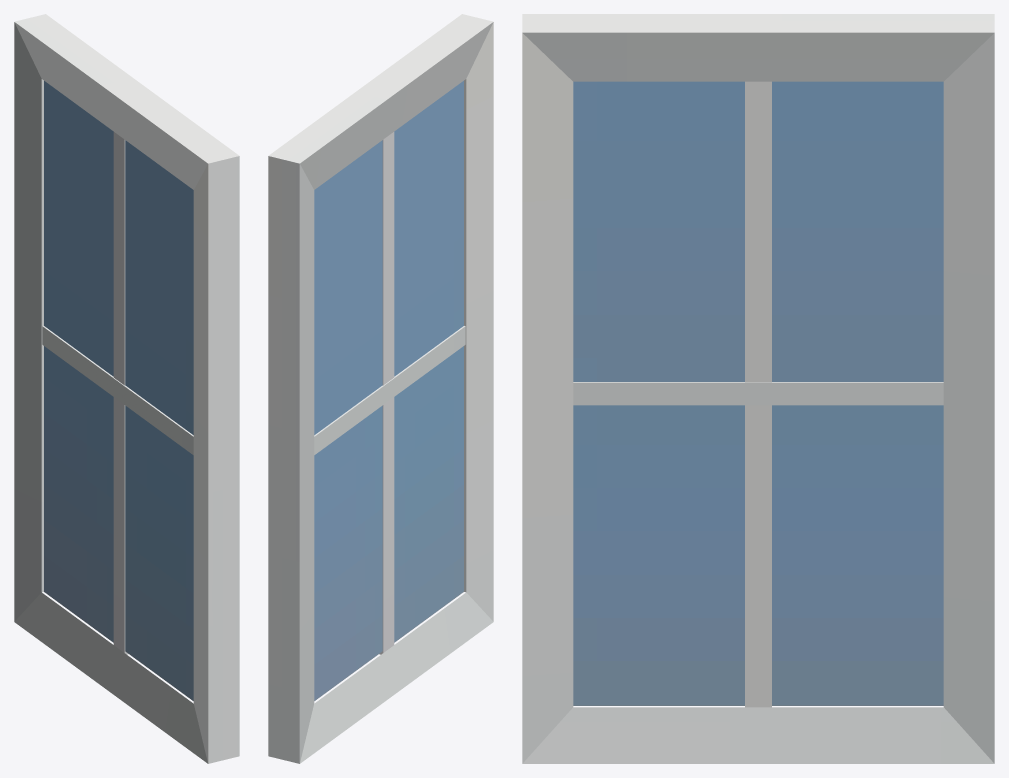
File: 0BEn8hO2Nbn.glb
3 views of the same model, side by side, from view 1: azimuth 30°, elevation 25°; view 2: azimuth 150°, elevation 25°; view 3: azimuth 270°, elevation 25° (orthographic). The views are drawn at different scales.
Parts seen in each view (by area): view 1: Cube.013_Cube.017; view 2: Cube.013_Cube.017; view 3: Cube.013_Cube.017.
Part boxes in pixels (x1,y1,x2,y2): Cube.013_Cube.017: (14, 14, 239, 763); Cube.013_Cube.017: (268, 14, 493, 763); Cube.013_Cube.017: (522, 14, 994, 763).
Size of the model in its own units: 0.0551 by 1 by 0.5855.
1 material, 1 textured.
